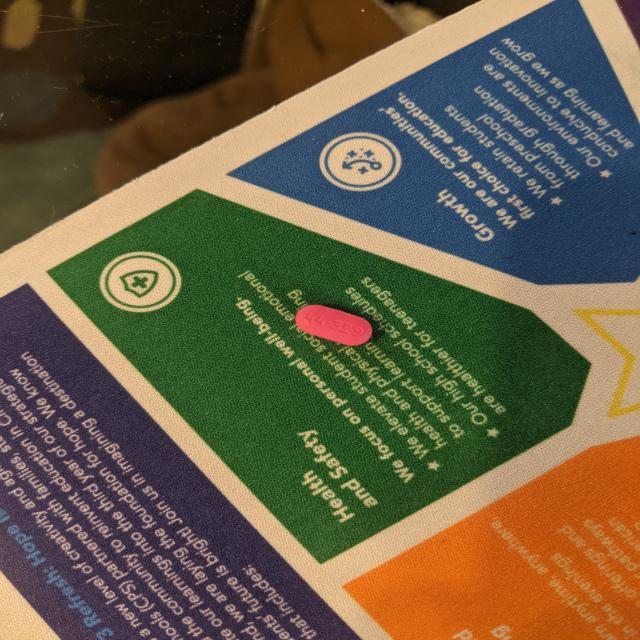non-organic waste: (295, 304, 373, 346)
